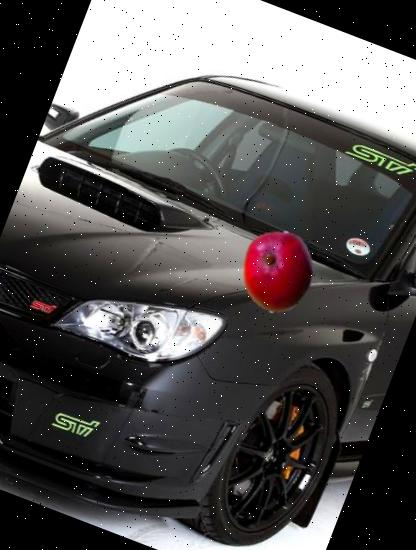Mango: (224, 218, 330, 326)
